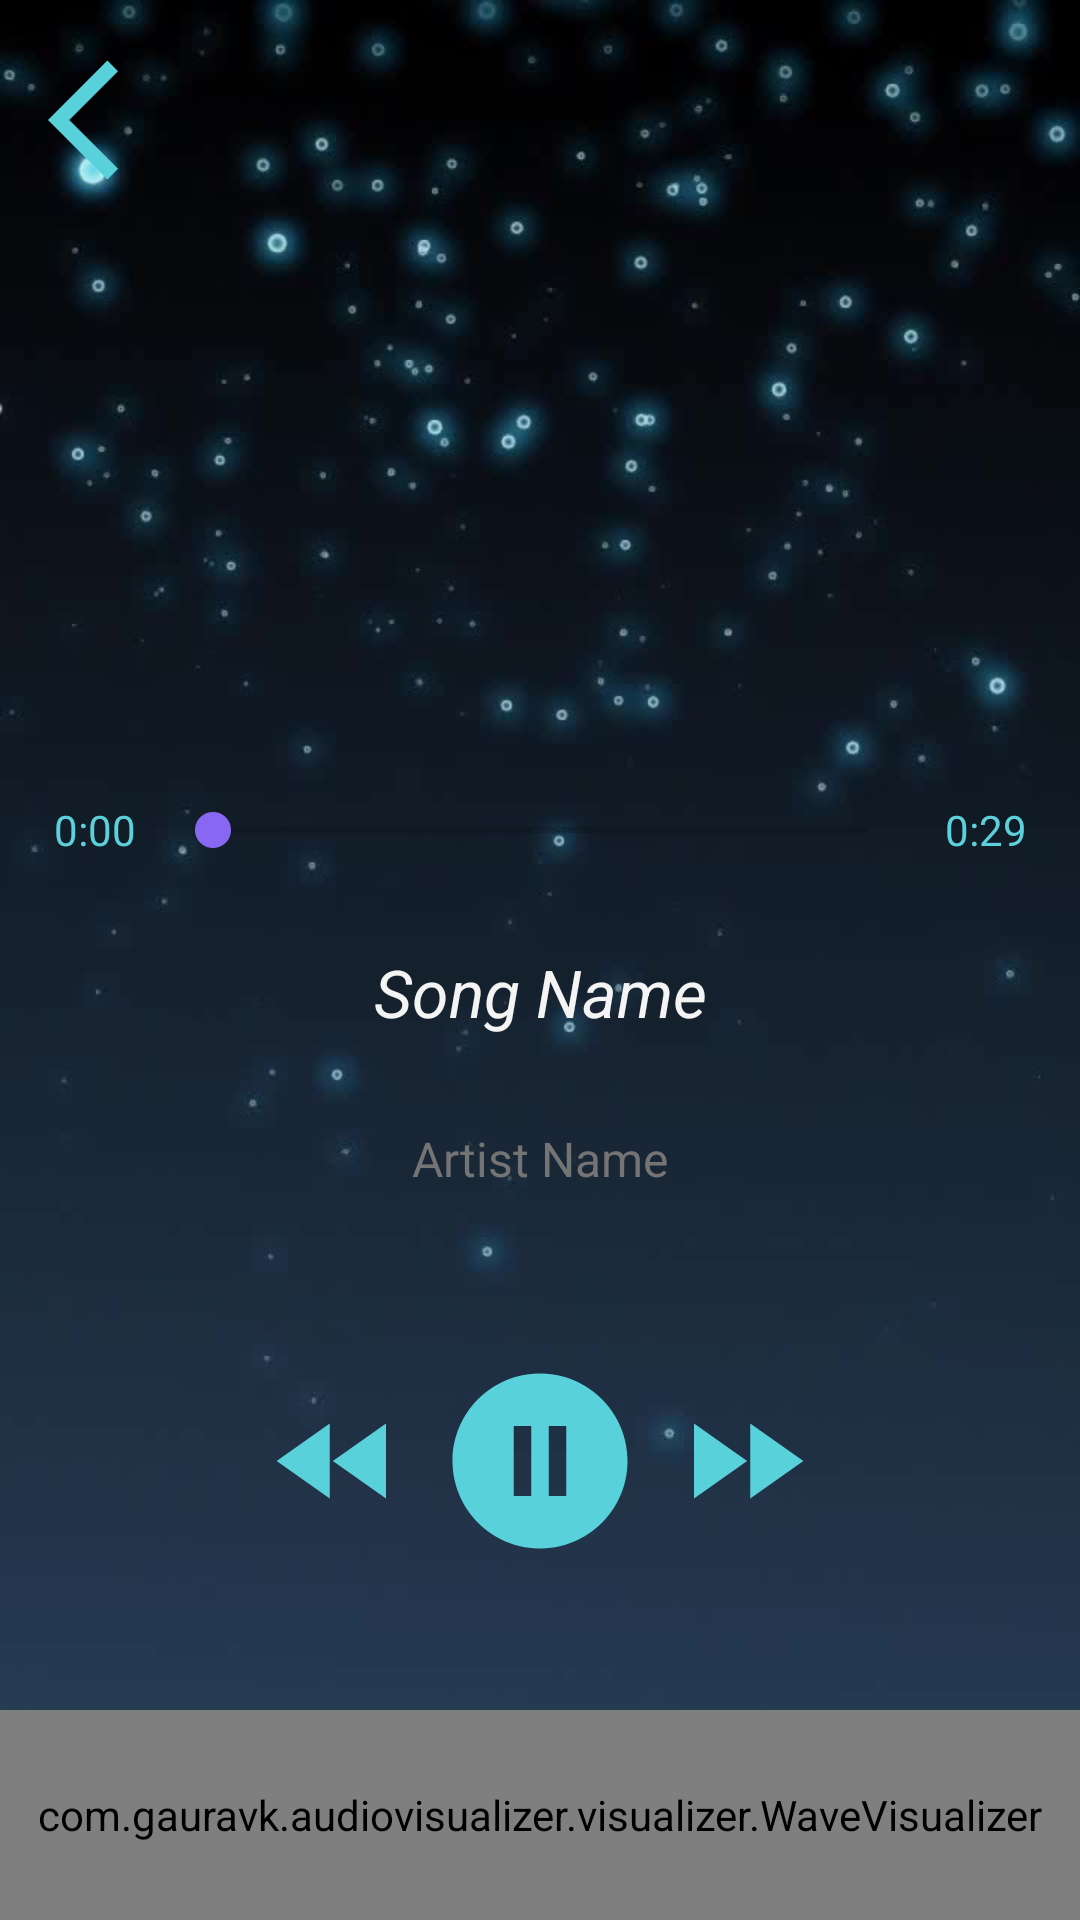

Where icons sit on this 1080w x 1920h app screen, as (x1, y1, x2, y2):
arrow back: (48, 48, 167, 192)
fast forward: (694, 1423, 803, 1499)
fast rewind: (277, 1398, 386, 1499)
pause: (452, 1373, 628, 1549)
